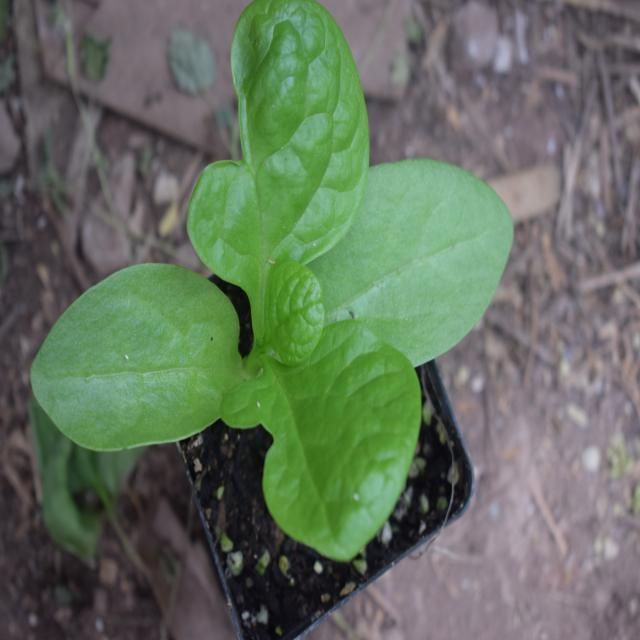Ceylon spinach: (46, 17, 508, 545)
